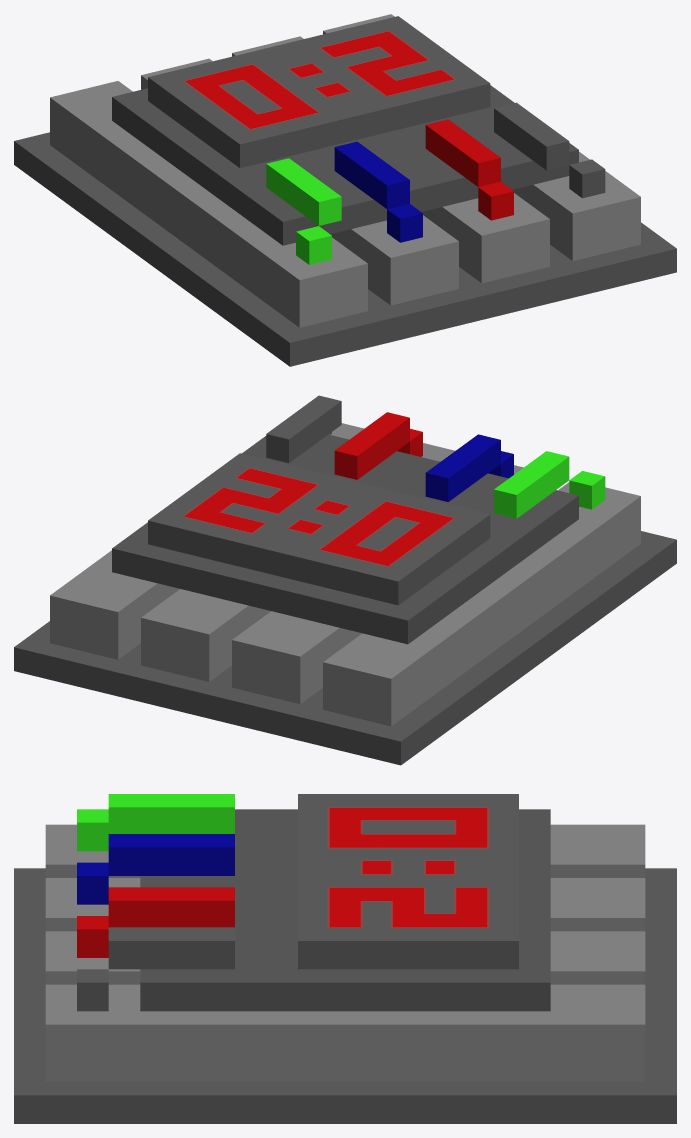
The model's file is DoorKey.fbx.
The picture shows the model from 3 angles, top to bottom: view 1: azimuth 30°, elevation 25°; view 2: azimuth 150°, elevation 25°; view 3: azimuth 270°, elevation 25°; orthographic projection. The views are drawn at different scales.
Visible parts, largest first — view 1: DoorKey.001; view 2: DoorKey.001; view 3: DoorKey.001.
Boxes of the visible parts, x1,y1,x2,y2 form: DoorKey.001: (14, 14, 676, 366); DoorKey.001: (14, 395, 676, 765); DoorKey.001: (14, 794, 676, 1123).
Size of the model in its own units: 170 by 50 by 210.
